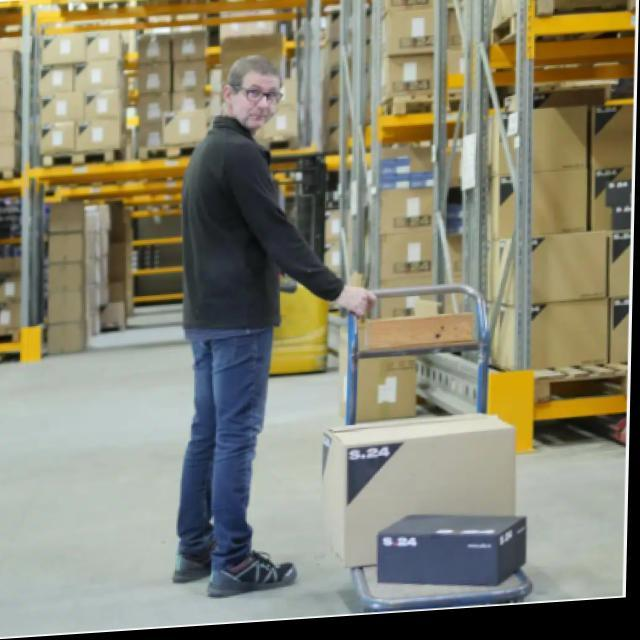shoes: (166, 529, 303, 608)
